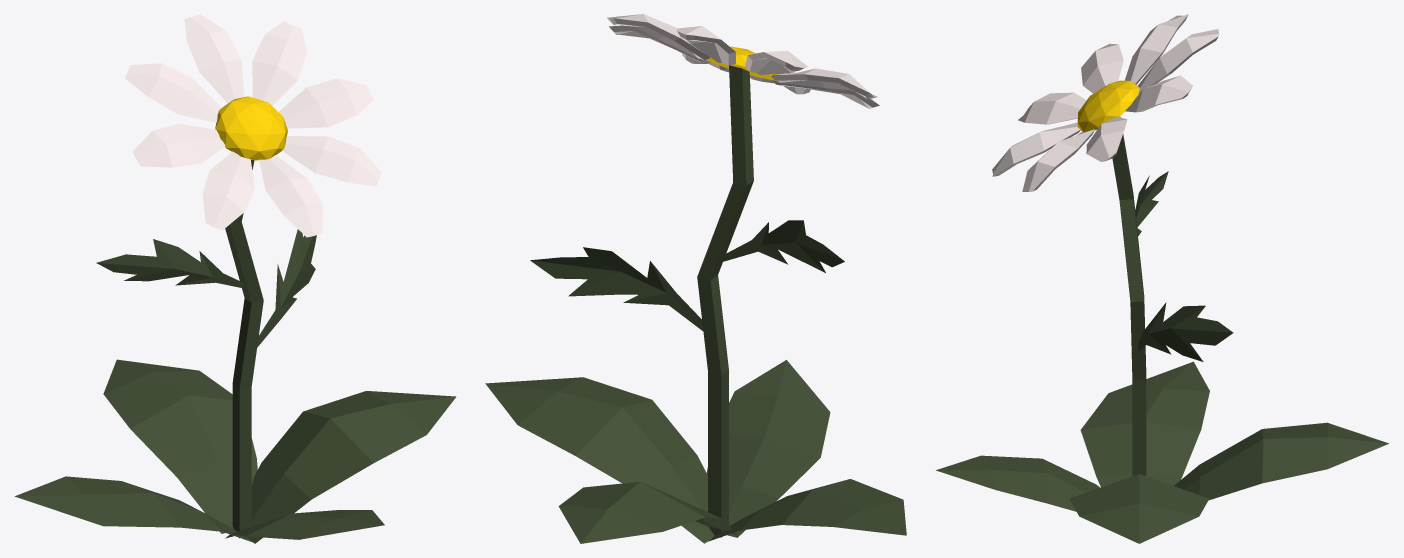
File: Chamomile.fbx
3 renders of one model, left to right at view 1: azimuth 30°, elevation 25°; view 2: azimuth 150°, elevation 25°; view 3: azimuth 270°, elevation 25°, orthographic. The views are drawn at different scales.
Visible parts, largest first — view 1: Chamomile_LOD0; view 2: Chamomile_LOD0; view 3: Chamomile_LOD0.
Boxes of the visible parts, x1,y1,x2,y2 form: Chamomile_LOD0: (14,14,455,543); Chamomile_LOD0: (485,14,906,543); Chamomile_LOD0: (936,14,1388,543).
Size of what is drawn, in the model's own units: 173 by 196 by 166.
